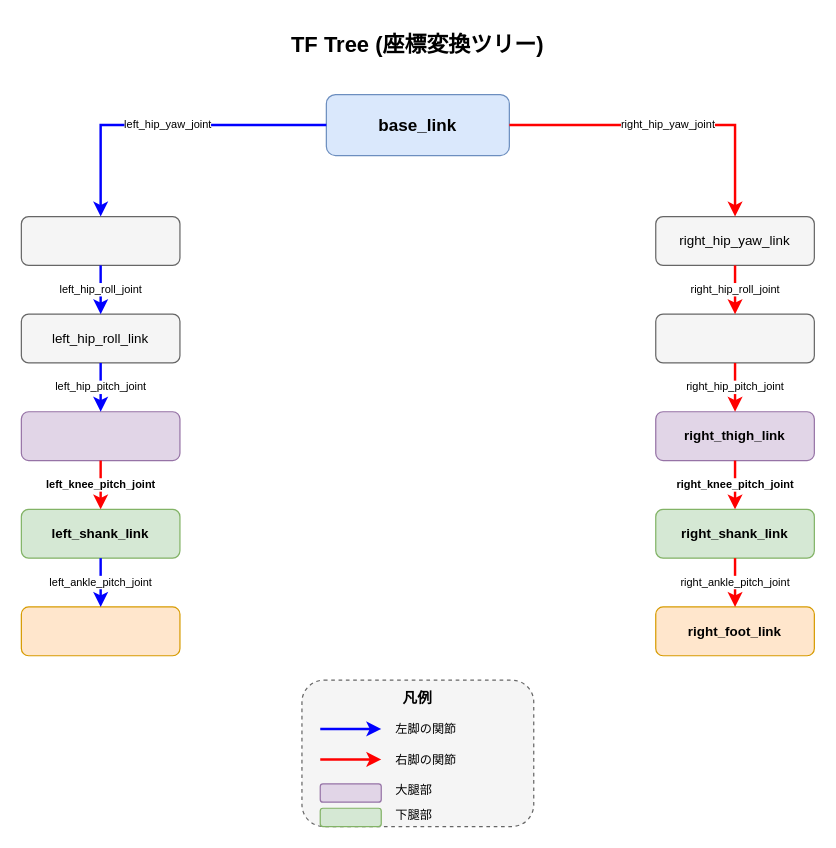
Image size: 836x848. Some labels were removed from this diagram. Here are the shapes that lost their labels. From the top down, the centre of each, then its label:
(x=100, y=240): left_hip_yaw_link
(x=734, y=338): right_hip_roll_link
(x=100, y=436): left_thigh_link
(x=100, y=631): left_foot_link
